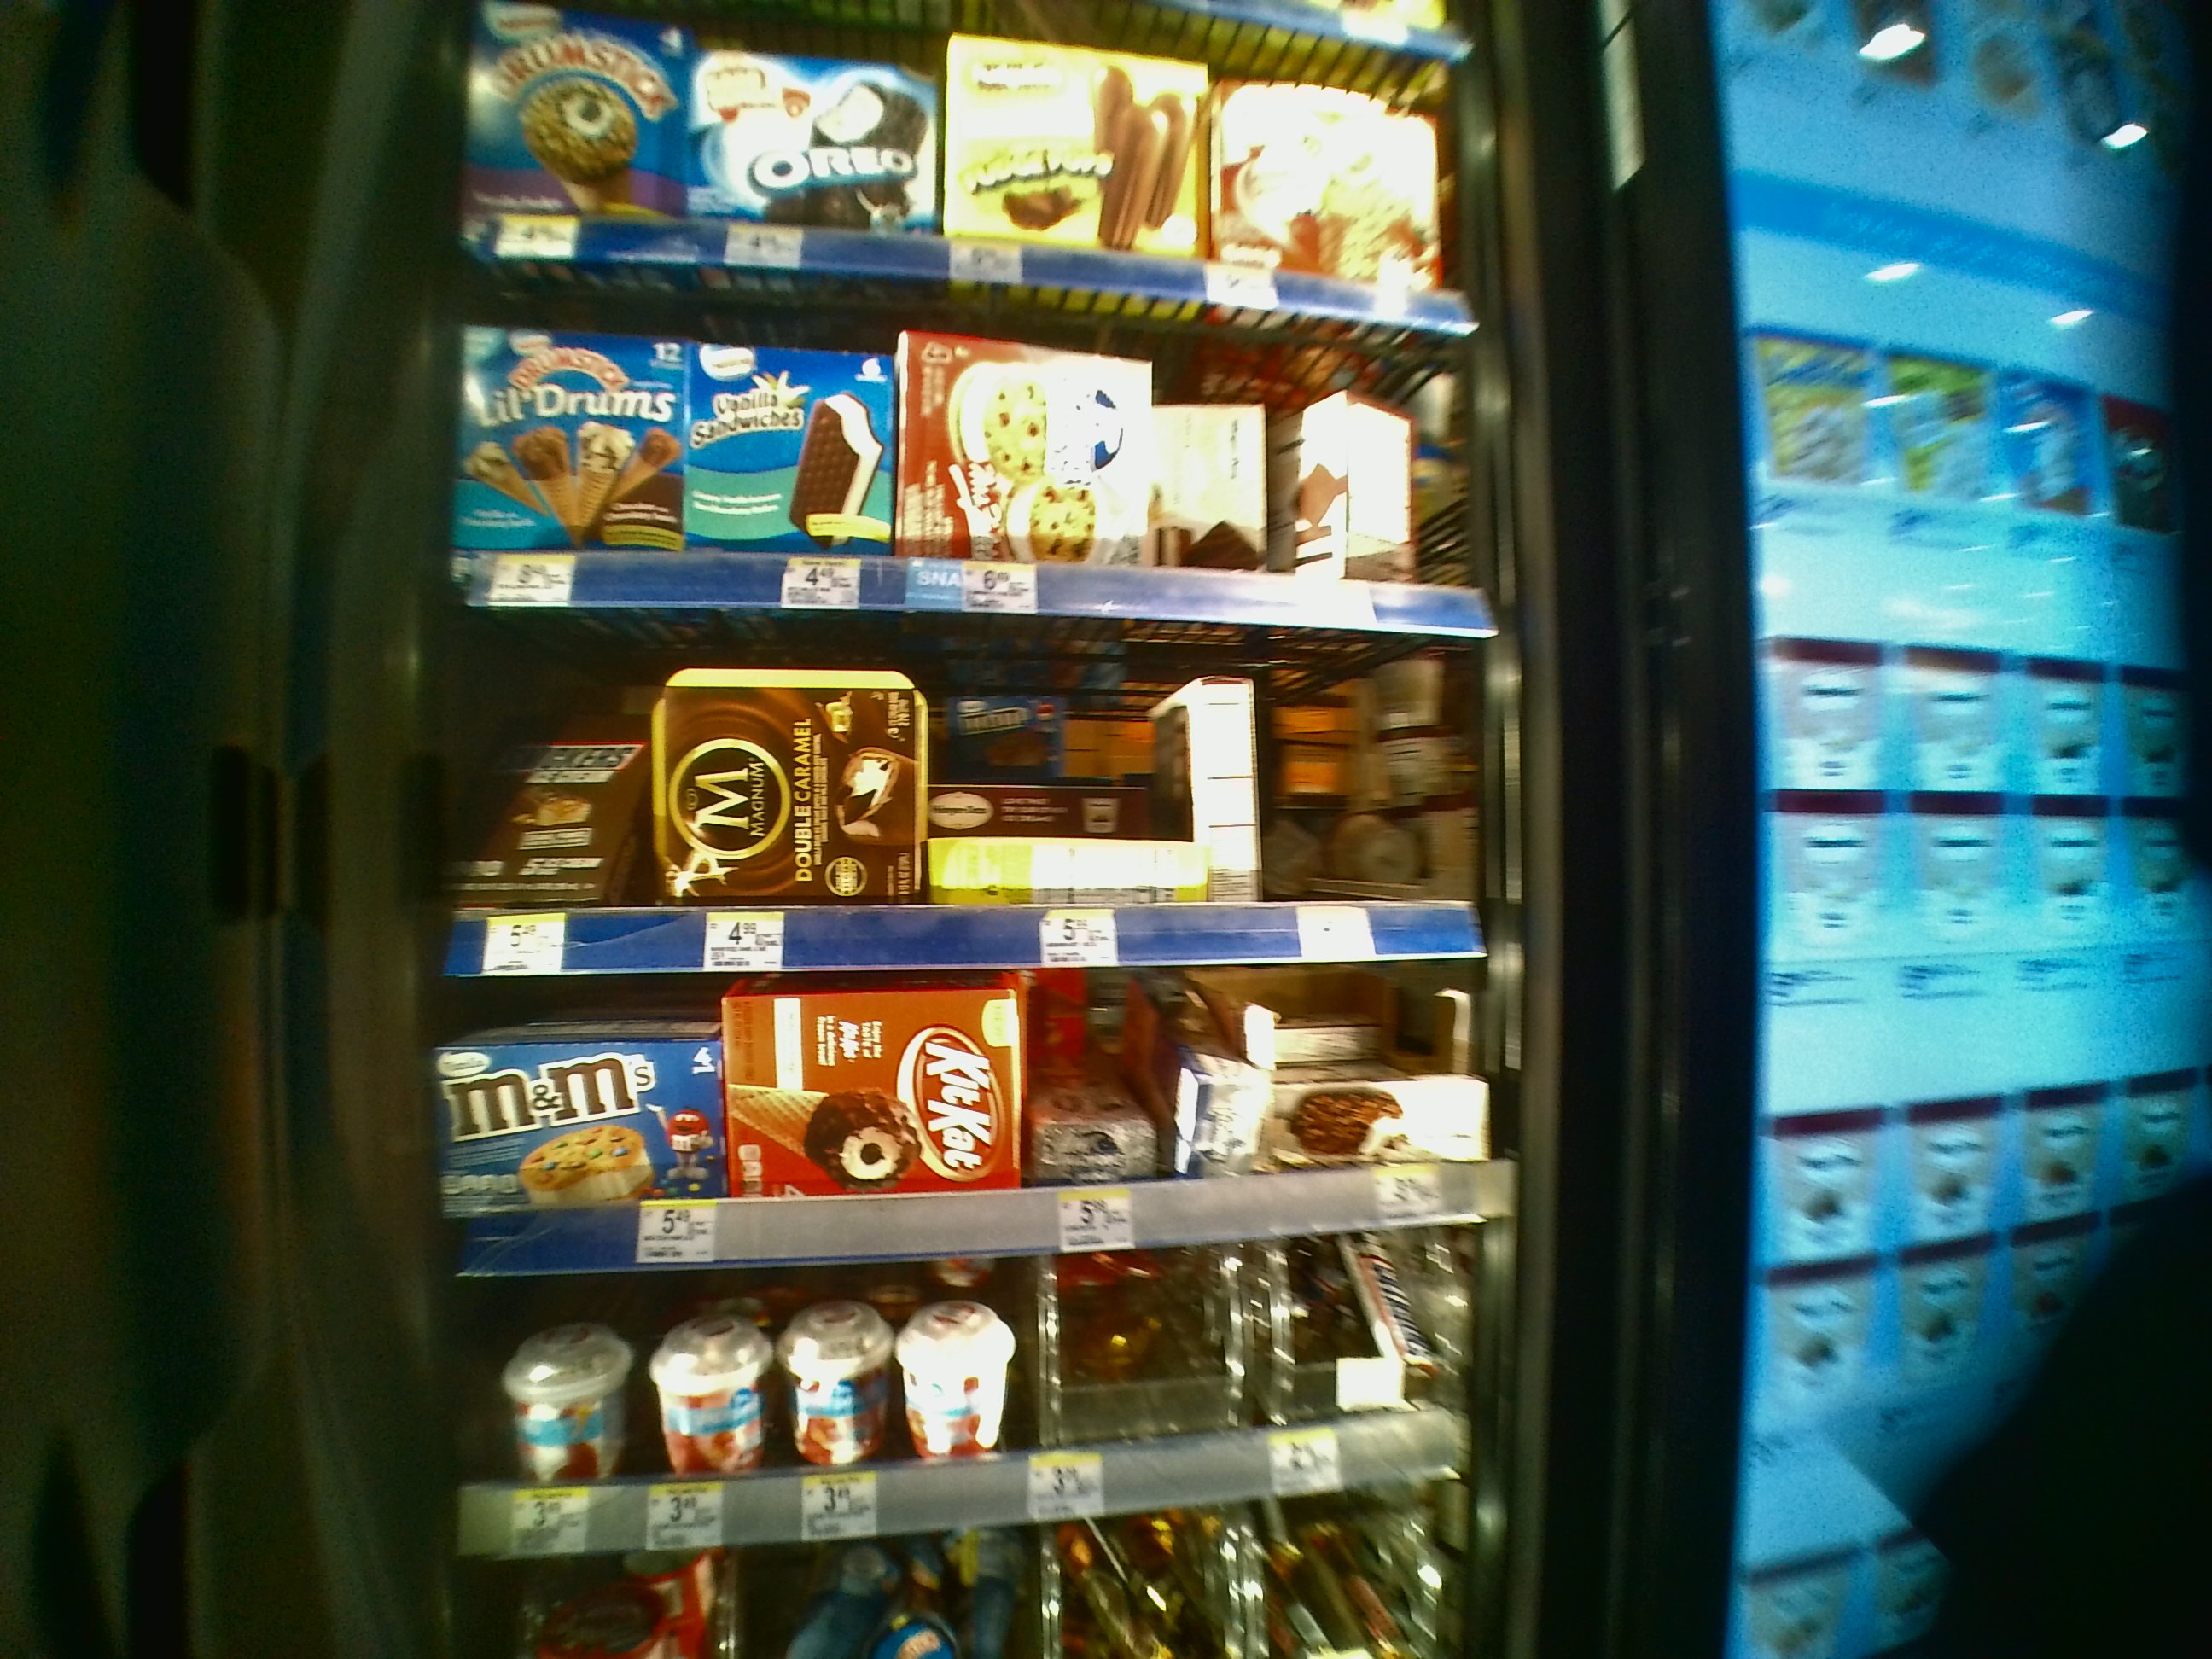shelf: (446, 622, 1508, 979), (446, 256, 1510, 606), (444, 995, 1521, 1281)
